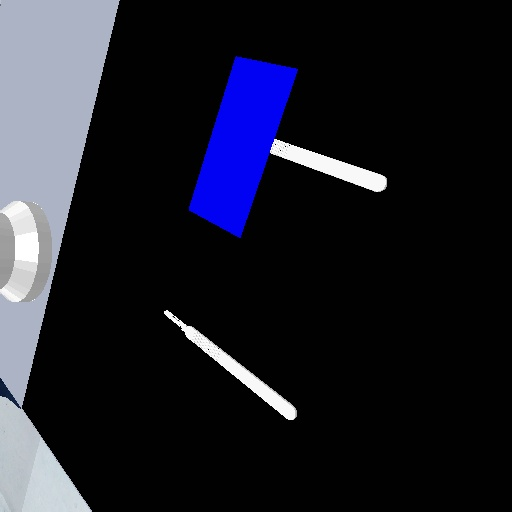bisturi: (159, 304, 303, 423), (267, 135, 391, 193)
